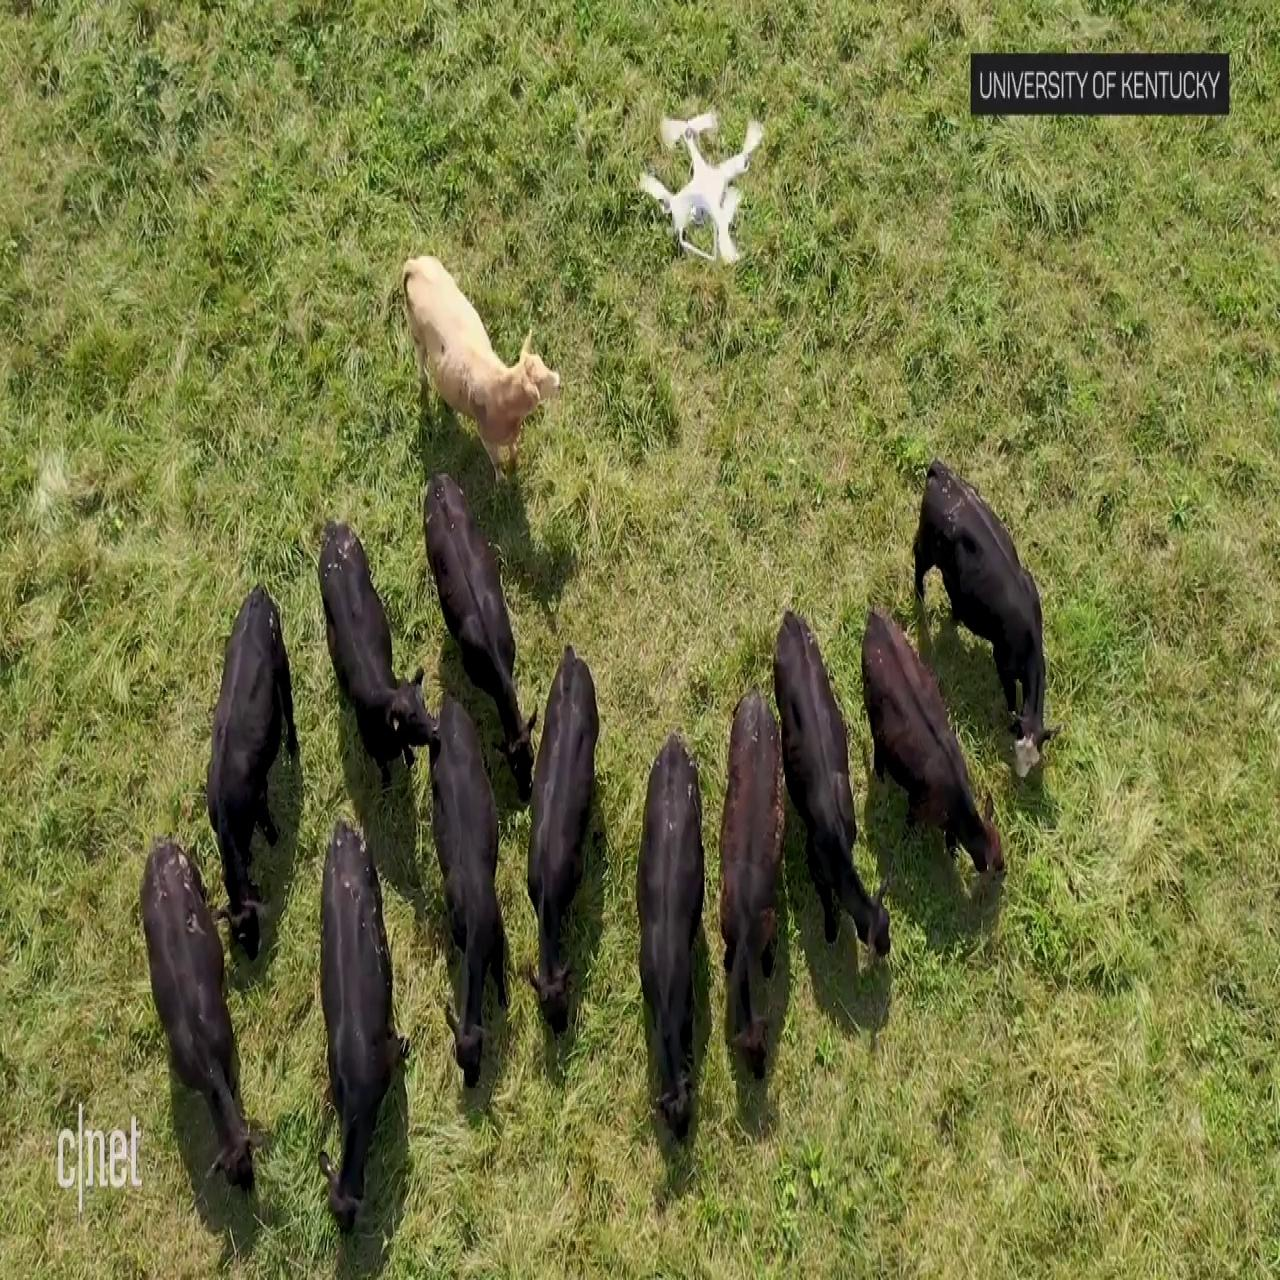cow: (757, 578, 897, 1015), (125, 812, 265, 1212), (284, 818, 411, 1248), (856, 592, 1008, 919), (907, 450, 1055, 784), (512, 610, 610, 1098), (390, 241, 561, 516), (297, 482, 441, 802), (196, 577, 307, 987), (618, 685, 704, 1184), (417, 716, 530, 1101), (411, 461, 535, 792), (719, 686, 787, 1138)
